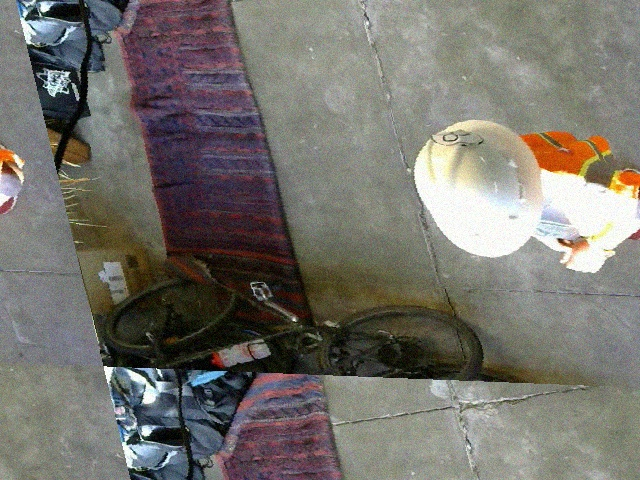eight: (426, 127, 488, 150)
